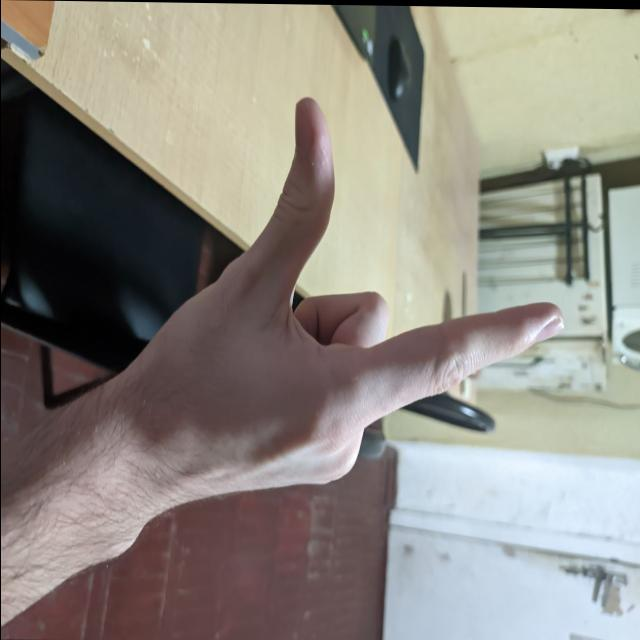-: (107, 89, 568, 580)
